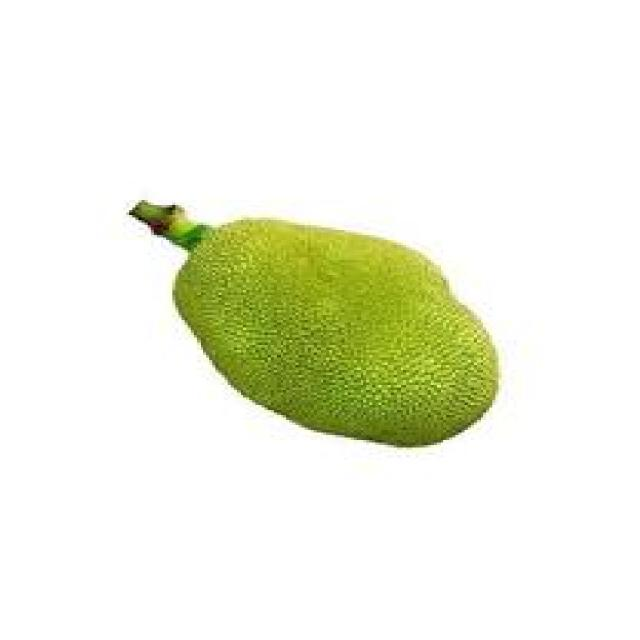Fruit: (154, 210, 514, 468)
